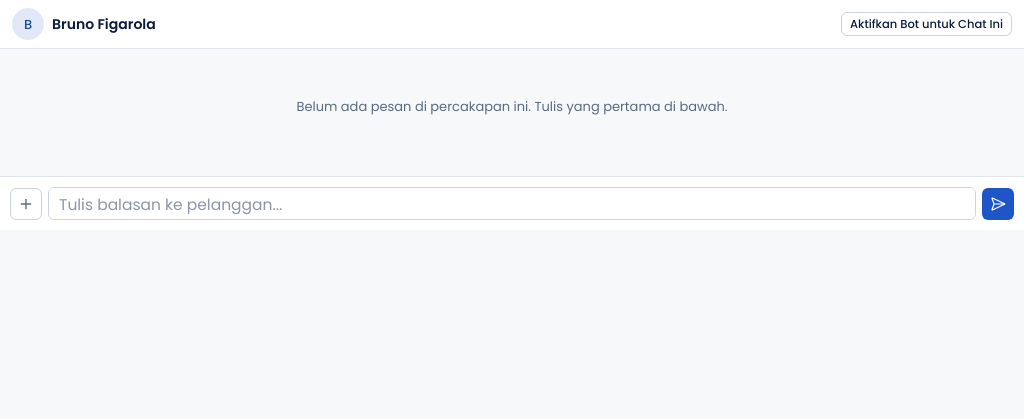
Test: ThreadView template variable data › passes the conversation’s contact name and booking data into ComposeBox as pickable variable fields
Expected: the text "Bruno Figarola" is shown, [52, 14, 156, 34]
Click the button named "Tambah lampiran atau template" at (26, 204), box [10, 188, 42, 220]
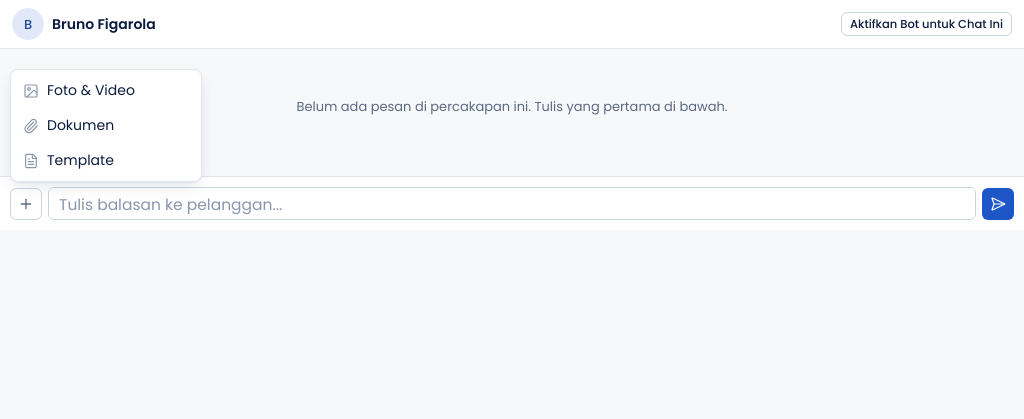
Click the menu item "Template" at (106, 160), box [15, 144, 197, 177]
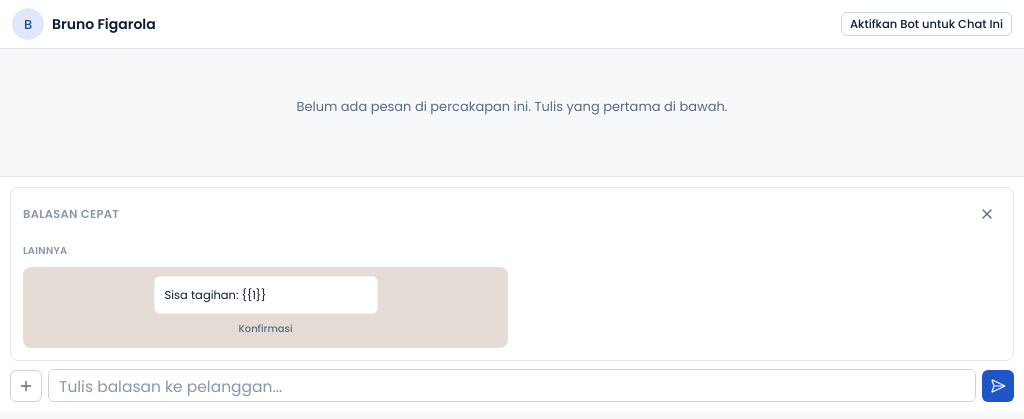
Click the text "Konfirmasi" at (266, 328), box [238, 321, 293, 336]
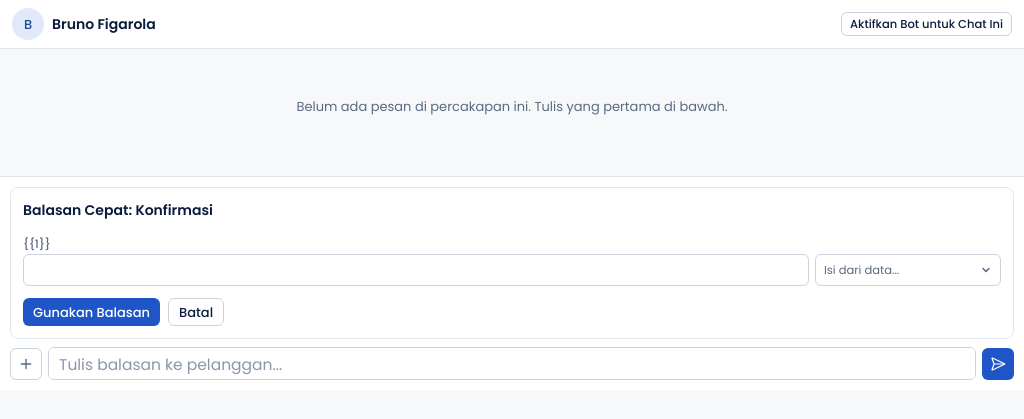
Select "Nama Kontak (WhatsApp)" in the dropdown named "Isi dari data booking/kontak" at (908, 270), box [815, 254, 1001, 286]
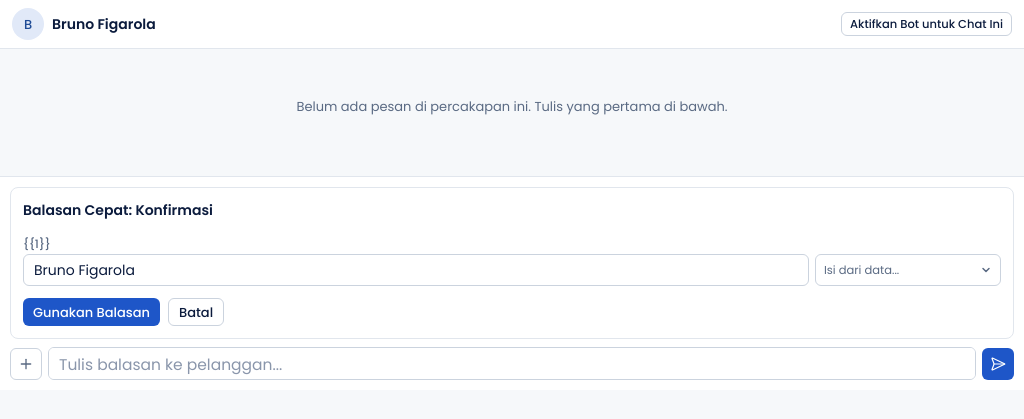
Result: the field labelled "{{1}}" holds "Bruno Figarola" at [23, 254, 809, 286]
